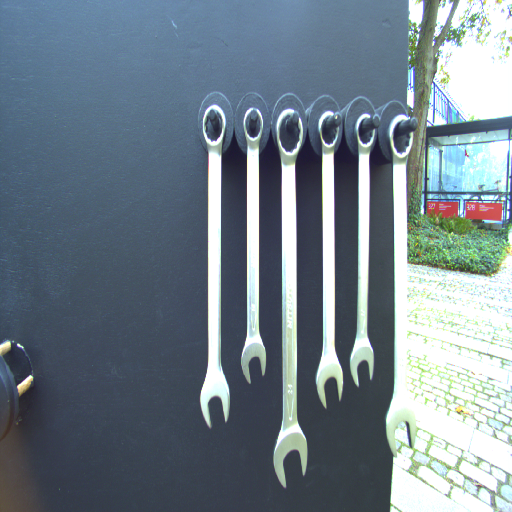bottom: (270, 425, 309, 486), (382, 392, 419, 455), (196, 369, 234, 427), (314, 353, 344, 408), (238, 335, 268, 385), (349, 339, 375, 389)
top: (273, 108, 305, 164), (384, 112, 414, 159), (201, 103, 228, 152), (317, 104, 340, 156), (241, 106, 265, 152), (353, 112, 377, 155)
